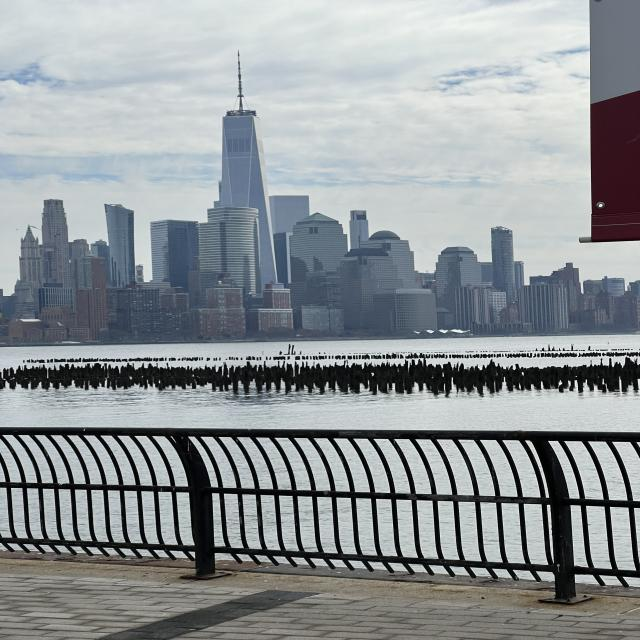WTC: (220, 48, 270, 206)
